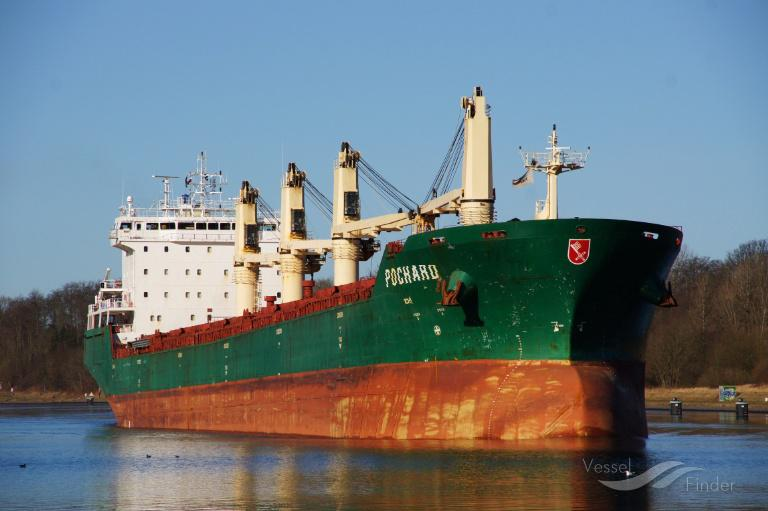OCR: (382, 266, 446, 294)
